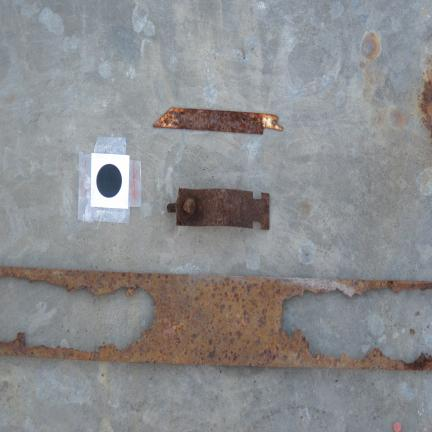karat: (0, 267, 431, 370)
